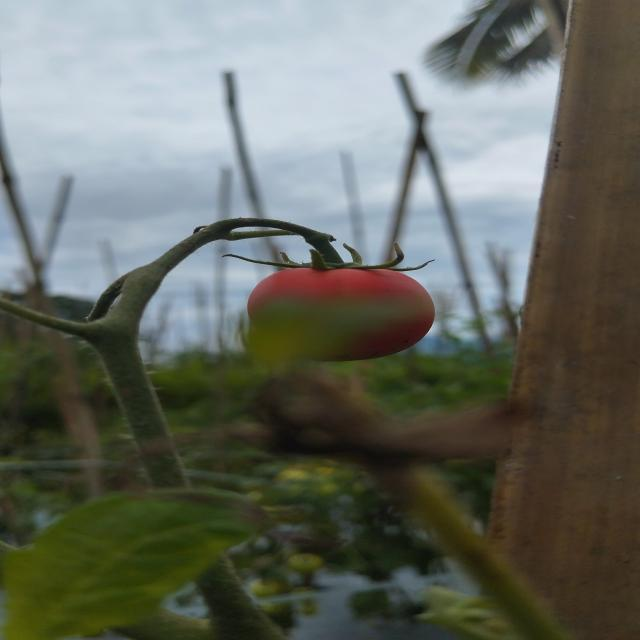Masak: (216, 230, 444, 376)
